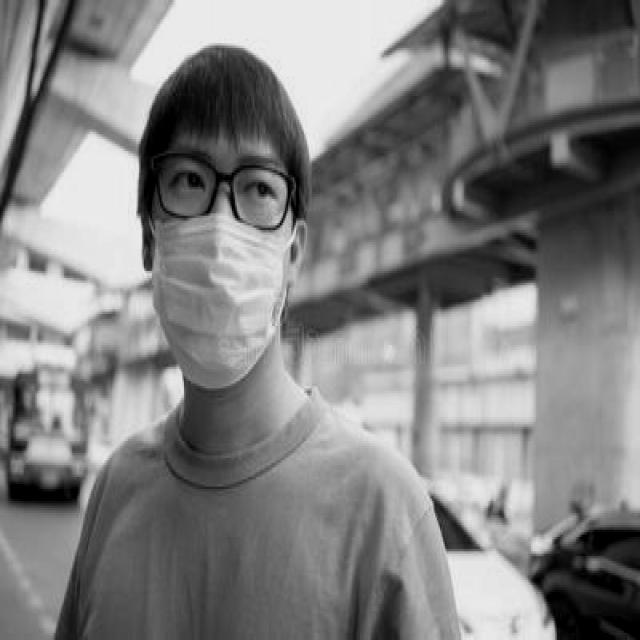face_mask: (150, 134, 293, 391)
glasses: (150, 146, 293, 235)
head_nohelmet: (140, 34, 310, 151)
person: (50, 21, 461, 640)
